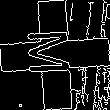M_E: (29, 31, 81, 79)
